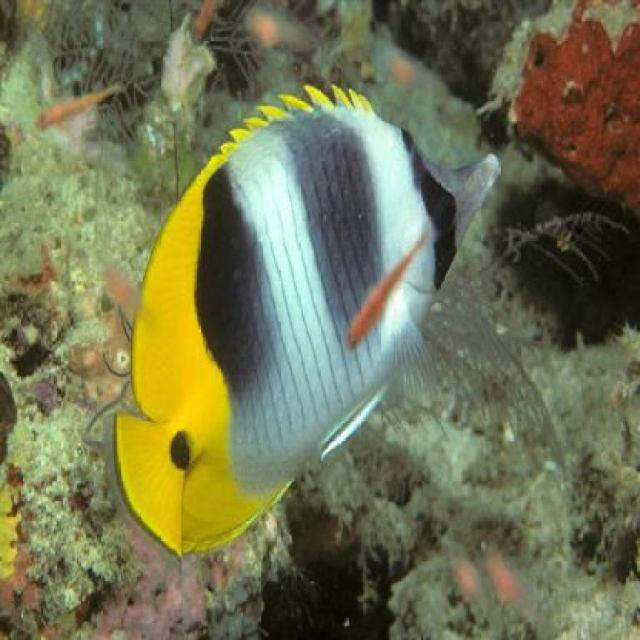ButterflyFish: (117, 86, 500, 555)
